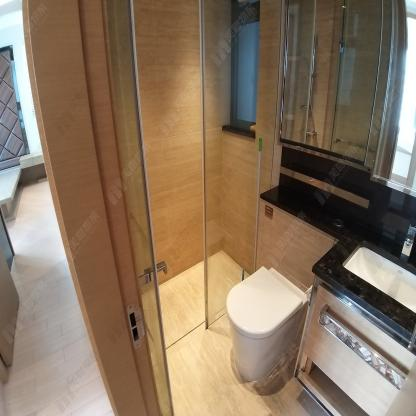Toilet: (225, 266, 307, 381)
Toilet Sink: (311, 226, 416, 342)
